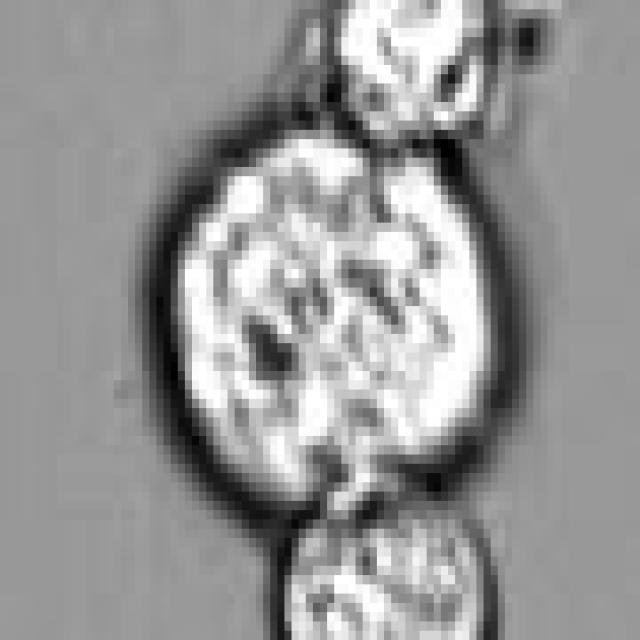Cancer Cell: (171, 102, 505, 492)
WBC: (284, 473, 498, 640), (327, 9, 498, 139)
